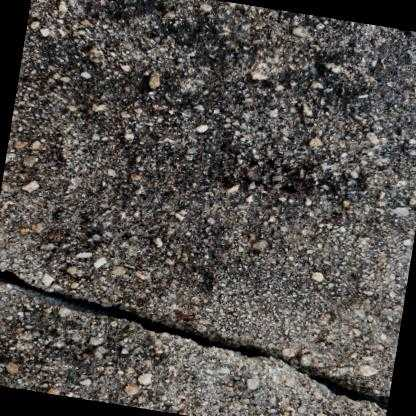crack: (0, 270, 389, 409)
